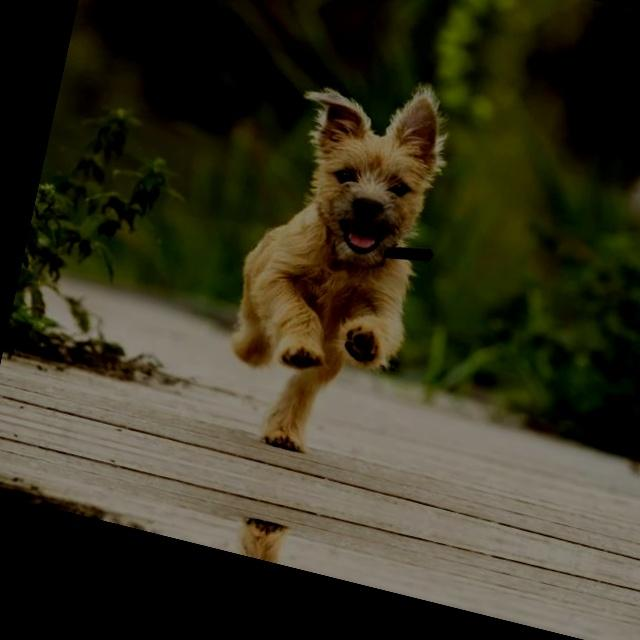dog: (194, 49, 506, 482), (171, 500, 409, 594)
